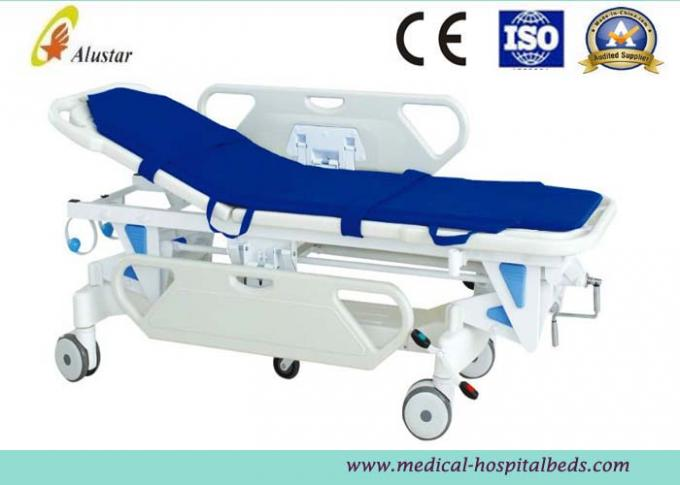trolley_bed: (45, 79, 619, 443)
